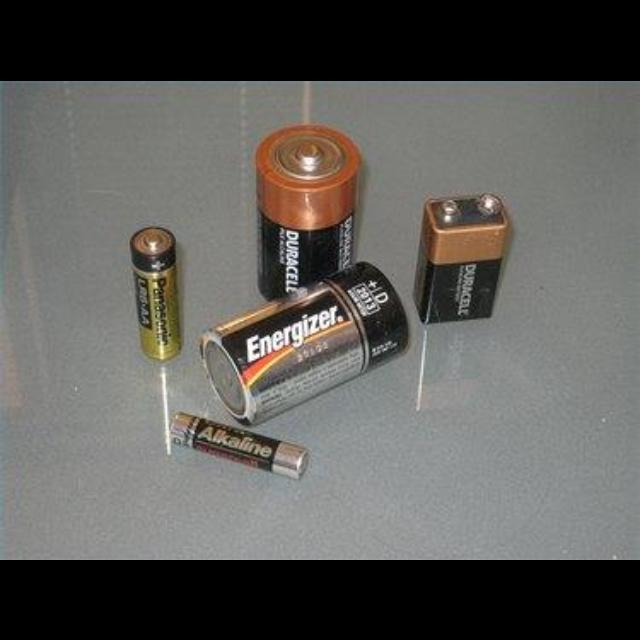bateria: (196, 260, 412, 428), (254, 124, 362, 302), (412, 193, 512, 325), (166, 410, 310, 482), (132, 227, 182, 361)
